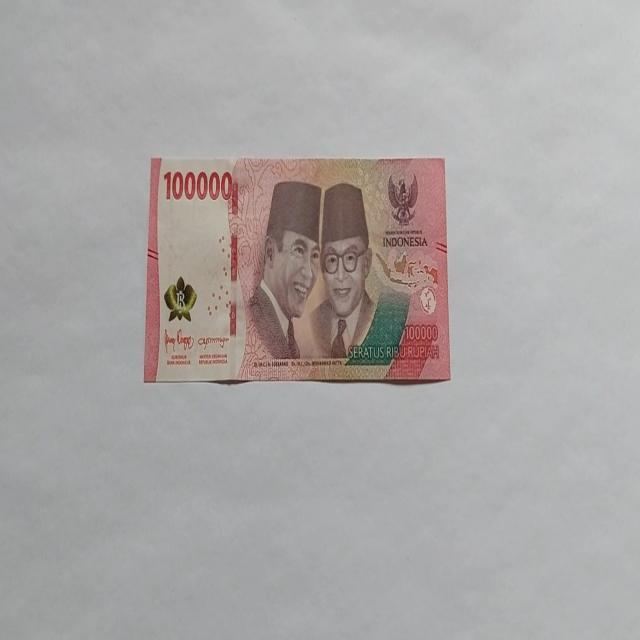seratus ribu rupiah: (143, 154, 451, 386), (240, 178, 322, 376)
